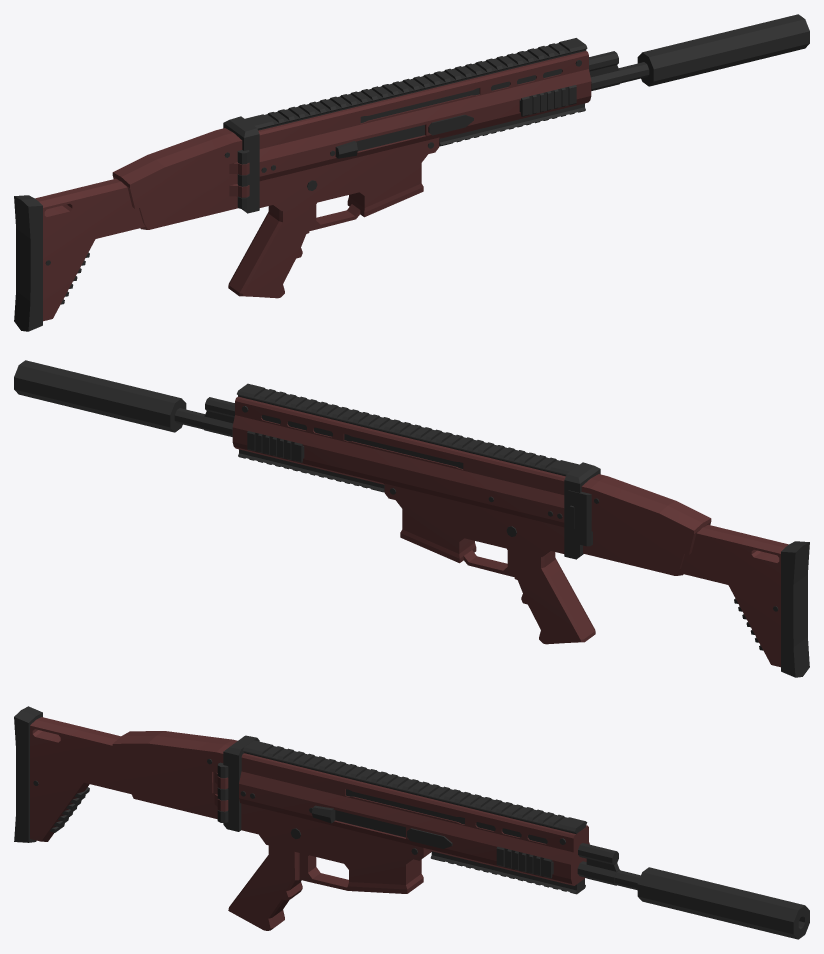
File: AssaultRifle6_05.fbx
3 renders of one model, top to bottom at view 1: azimuth 30°, elevation 25°; view 2: azimuth 150°, elevation 25°; view 3: azimuth 330°, elevation 25°, orthographic.
Visible parts, largest first — view 1: AssaultRifle6_05; view 2: AssaultRifle6_05; view 3: AssaultRifle6_05.
Boxes of the visible parts, <box> form: AssaultRifle6_05: <box>14,14,809,331</box>; AssaultRifle6_05: <box>14,360,809,677</box>; AssaultRifle6_05: <box>14,706,809,939</box>.
Size of the model in its own units: 1.07 by 0.2319 by 0.0635.
